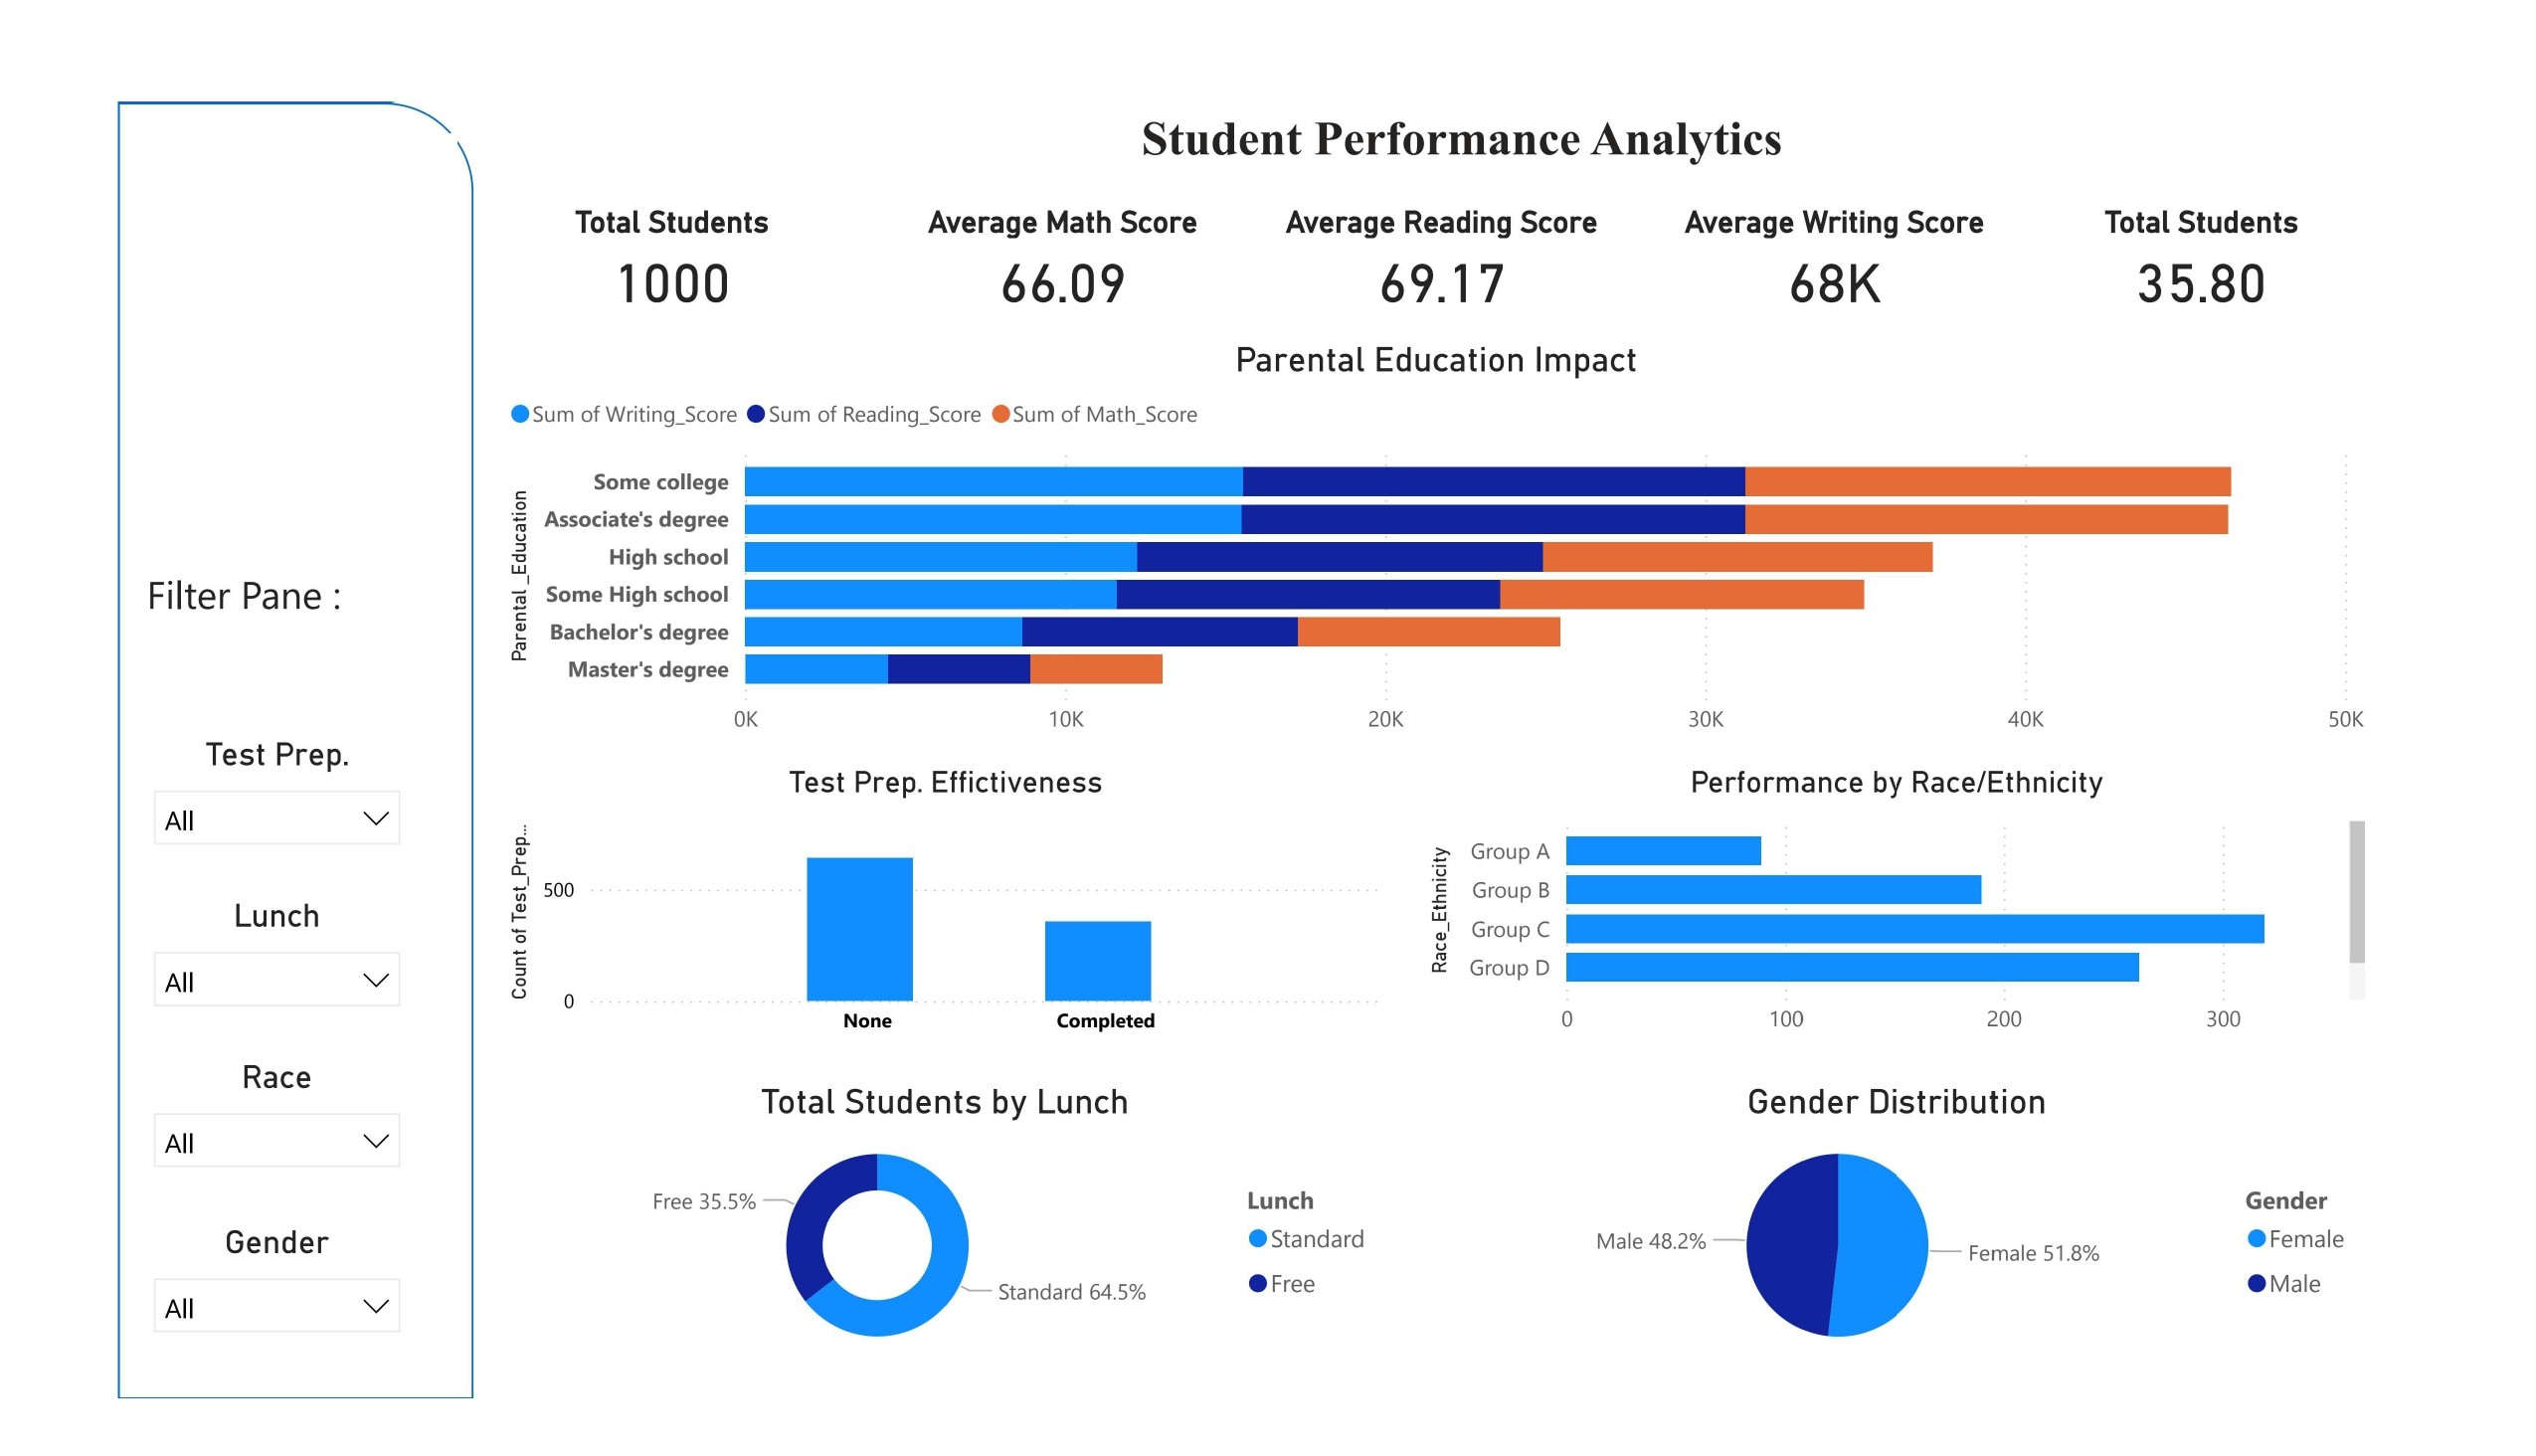

What the dashboard file says about the page in this screenshot:
{"tool":"powerbi","page":{"name":"Page 1","canvas":[1280,720],"ordinal":0},"visuals":[{"type":"shape","box":[0,0,197.5,720],"z":0},{"type":"textbox","box":[211.6,0,1068.6,43],"z":1000},{"type":"card","title":"Total Students","fields":{"Values":["StudentsPerformance.TotalStudents"]},"box":[212.5,56.2,190,65],"z":2000},{"type":"card","title":"Average Math Score","fields":{"Values":["Avg(StudentsPerformance.Math_Score)"]},"box":[428.8,56.2,190,65],"z":3000},{"type":"card","title":"Average Reading Score","fields":{"Values":["Avg(StudentsPerformance.Reading_Score)"]},"box":[640,56.2,190,65],"z":4000},{"type":"card","title":"Average Writing Score","fields":{"Values":["Sum(StudentsPerformance.Writing_Score)"]},"box":[857.5,56.2,190,65],"z":5000},{"type":"card","title":"Total Students","fields":{"Values":["StudentsPerformance.PercentageCompletedPrep"]},"box":[1061.2,56.2,190,65],"z":6000},{"type":"pieChart","title":"Gender Distribution","fields":{"Category":["StudentsPerformance.Gender"],"Y":["StudentsPerformance.TotalStudents"]},"box":[722.5,543.8,528.8,160],"z":7000},{"type":"donutChart","title":"Total Students by Lunch","fields":{"Category":["StudentsPerformance.Lunch"],"Y":["StudentsPerformance.TotalStudents"]},"box":[211.2,543.8,495,160],"z":8000},{"type":"barChart","title":"Parental Education Impact","fields":{"Category":["StudentsPerformance.Parental _Education"],"Y":["Sum(StudentsPerformance.Writing_Score)","Sum(StudentsPerformance.Reading_Score)","Sum(StudentsPerformance.Math_Score)"]},"box":[212.5,131.2,1038.8,228.8],"z":9000},{"type":"slicer","title":"Gender","fields":{"Values":["StudentsPerformance.Gender"]},"box":[9.3,622.1,157,76.7],"z":10000},{"type":"slicer","title":"Race","fields":{"Values":["StudentsPerformance.Race_Ethnicity"]},"box":[9.3,530.2,157,75.6],"z":11000},{"type":"slicer","title":"Lunch","fields":{"Values":["StudentsPerformance.Lunch"]},"box":[9.3,440.7,157,73.3],"z":12000},{"type":"slicer","title":"Test Prep.","fields":{"Values":["StudentsPerformance.Parental _Education"]},"box":[9.3,351.2,157,72.1],"z":13000},{"type":"clusteredColumnChart","title":"Test Prep. Effictiveness","fields":{"Category":["StudentsPerformance.Test_Prep_Course"],"Y":["CountNonNull(StudentsPerformance.Test_Prep_Course (groups))"]},"box":[212.5,367.5,493.8,160],"z":14000},{"type":"clusteredBarChart","title":"Performance by Race/Ethnicity","fields":{"Category":["StudentsPerformance.Race_Ethnicity"],"Y":["CountNonNull(StudentsPerformance.Pass_Status)"]},"box":[722.5,367.5,528.8,160],"z":15000},{"type":"textbox","box":[10.5,253.5,157,52.3],"z":16001},{"type":"image","box":[3.5,12.8,189.5,189.5],"z":16002}]}

Visuals, with their boxes in screenshot pixels (x1, y1, x2, y2), scaled from the page's 1280x720 canvas onto the 2536x1456 screenshot:
shape: rect(0, 0, 391, 1455)
textbox: rect(420, 0, 2535, 87)
"Total Students" card: rect(421, 113, 798, 245)
"Average Math Score" card: rect(849, 113, 1226, 245)
"Average Reading Score" card: rect(1268, 113, 1645, 245)
"Average Writing Score" card: rect(1699, 113, 2076, 245)
"Total Students" card: rect(2102, 113, 2479, 245)
"Gender Distribution" pieChart: rect(1431, 1100, 2479, 1423)
"Total Students by Lunch" donutChart: rect(419, 1100, 1399, 1423)
"Parental Education Impact" barChart: rect(421, 266, 2479, 728)
"Gender" slicer: rect(19, 1258, 329, 1413)
"Race" slicer: rect(19, 1072, 329, 1225)
"Lunch" slicer: rect(19, 891, 329, 1039)
"Test Prep." slicer: rect(19, 710, 329, 856)
"Test Prep. Effictiveness" clusteredColumnChart: rect(421, 743, 1399, 1067)
"Performance by Race/Ethnicity" clusteredBarChart: rect(1431, 743, 2479, 1067)
textbox: rect(21, 512, 332, 619)
image: rect(7, 26, 382, 409)
